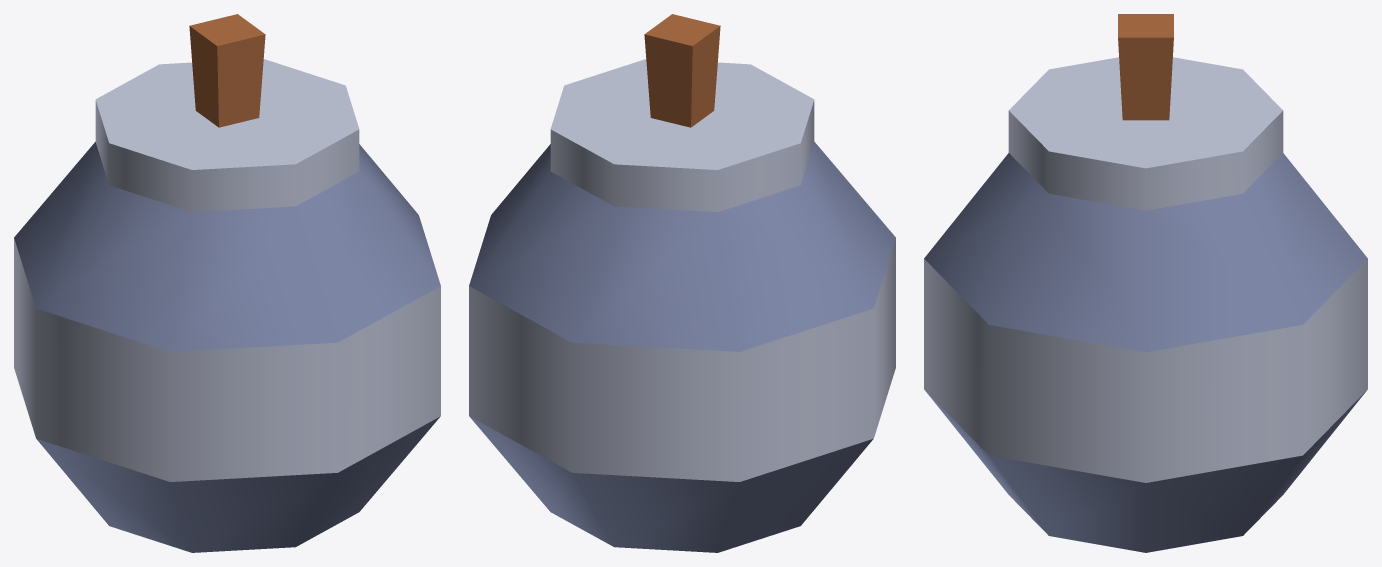
Rendered from bomb.glb.
The picture shows the model from 3 angles, left to right: view 1: azimuth 30°, elevation 25°; view 2: azimuth 150°, elevation 25°; view 3: azimuth 270°, elevation 25°; orthographic projection.
Visible parts, largest first — view 1: bomb; view 2: bomb; view 3: bomb.
Boxes of the visible parts, x1=… form: bomb: x1=14, y1=14, x2=440, y2=552; bomb: x1=469, y1=14, x2=895, y2=552; bomb: x1=924, y1=14, x2=1367, y2=552.
Bounding box in the file's own units: 0.3424 × 0.4336 × 0.3424.
